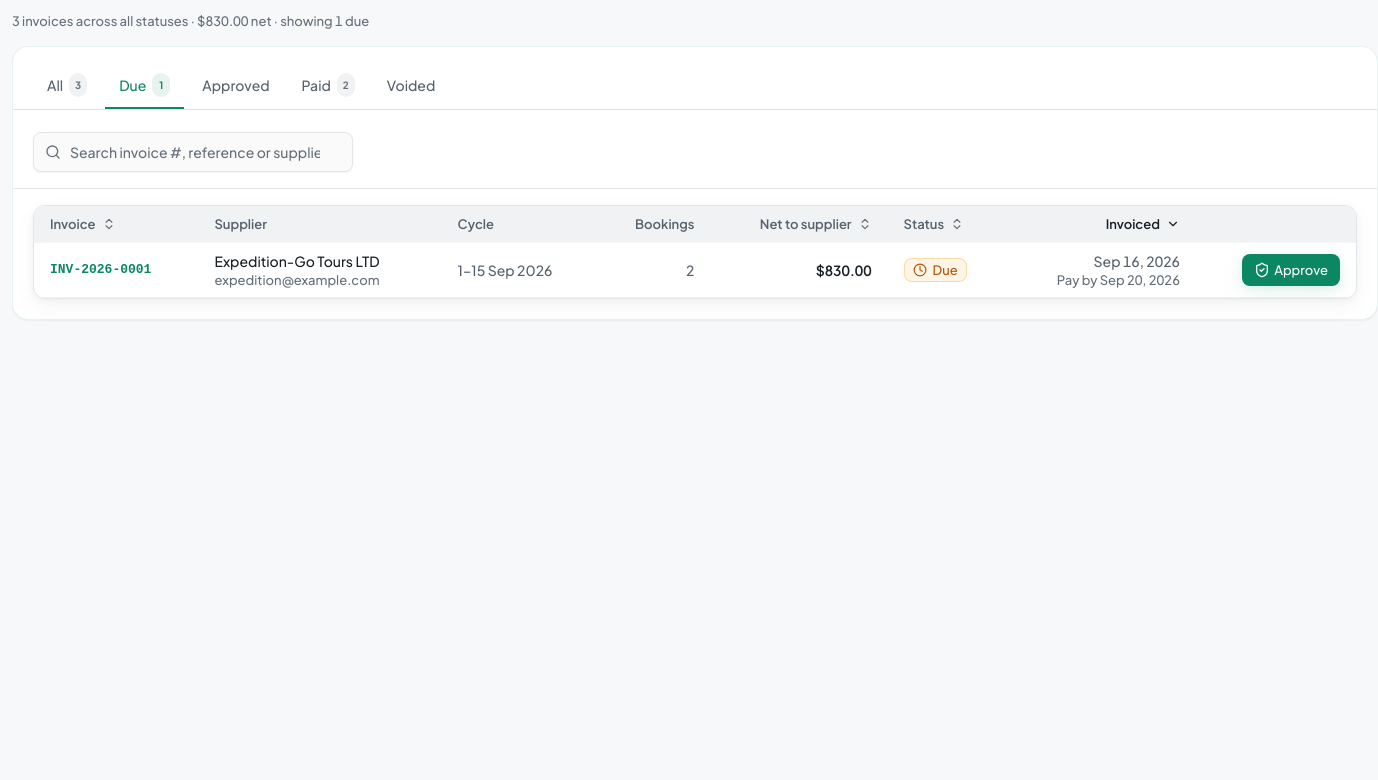
Test case: InvoicesTab — the receipt › expands into the derivation, the activity window and a reconciled total
Expected: the text "INV-2026-0001" is shown, [50,262,151,277]
Click the text "INV-2026-0001". click: (695,271)
box: [34,243,1356,298]
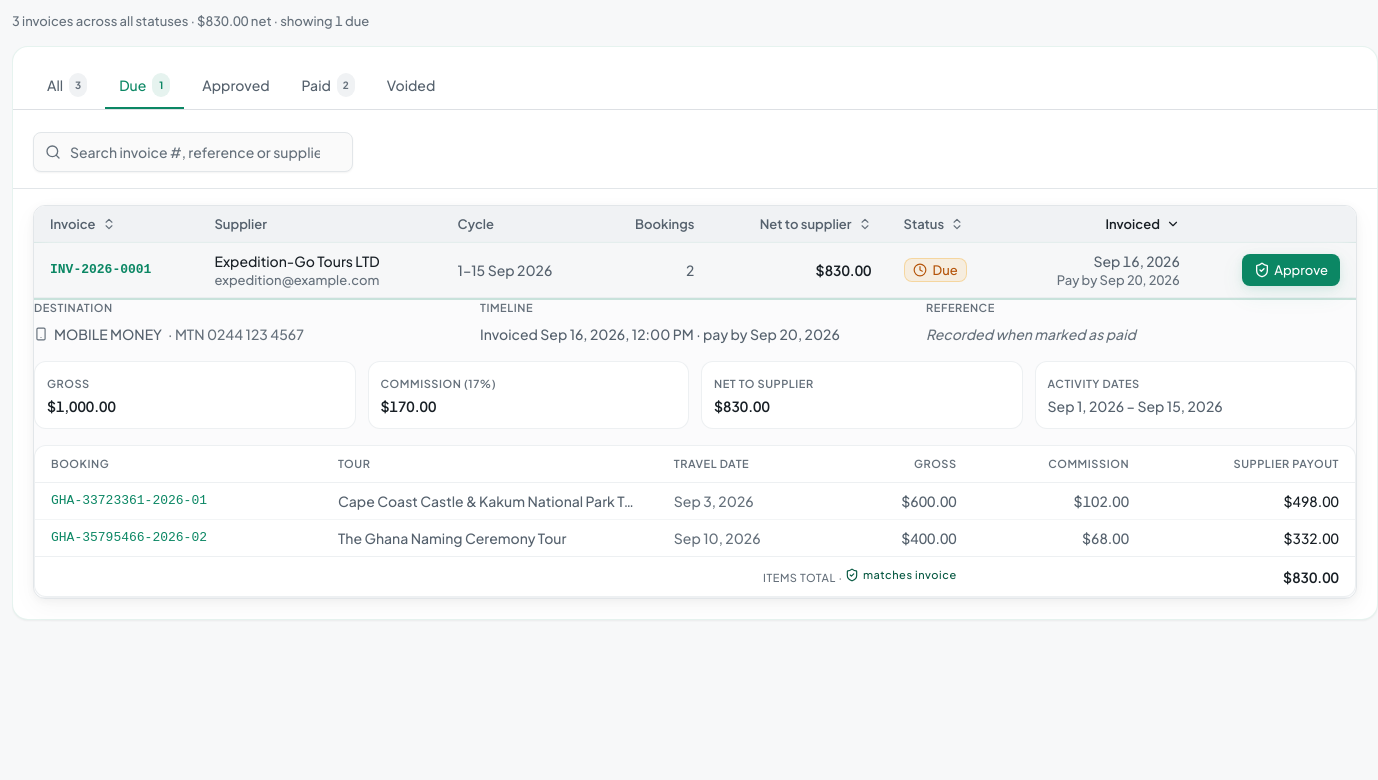
Expected: the text "Commission (17%)" is shown, [380,377,496,390]
Expected: the text "Activity dates" is shown, [1048,377,1140,390]
Expected: the text "Sep 1, 2026 – Sep 15, 2026" is shown, [1048,397,1223,415]
